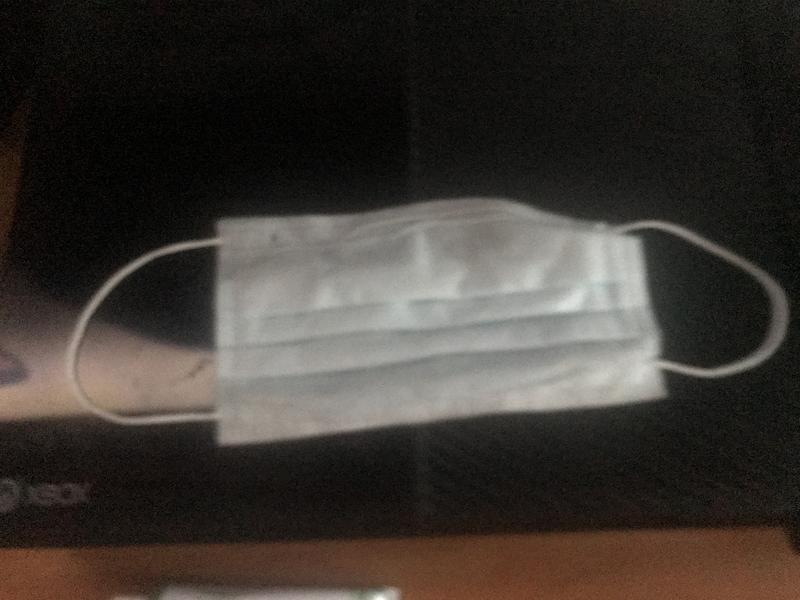medical_mask: (69, 193, 782, 427)
